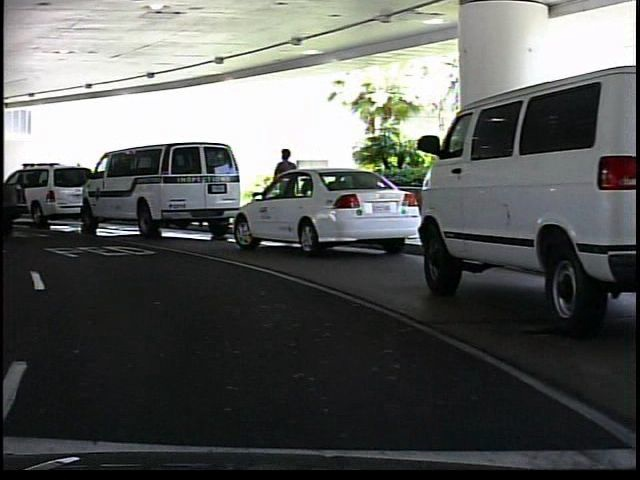person: (270, 144, 300, 229)
